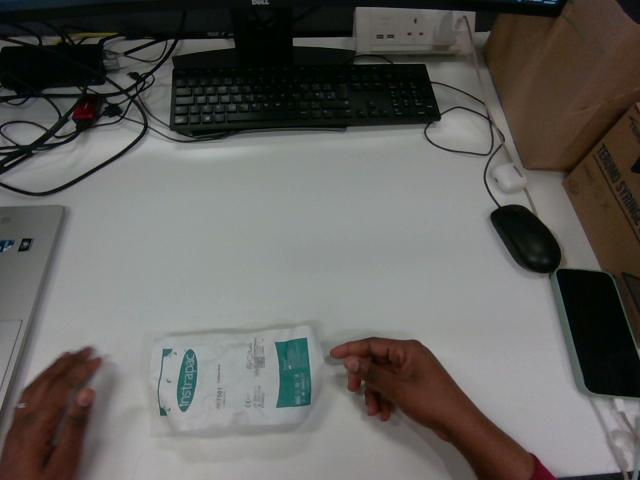gallipot: (149, 326, 322, 433)
